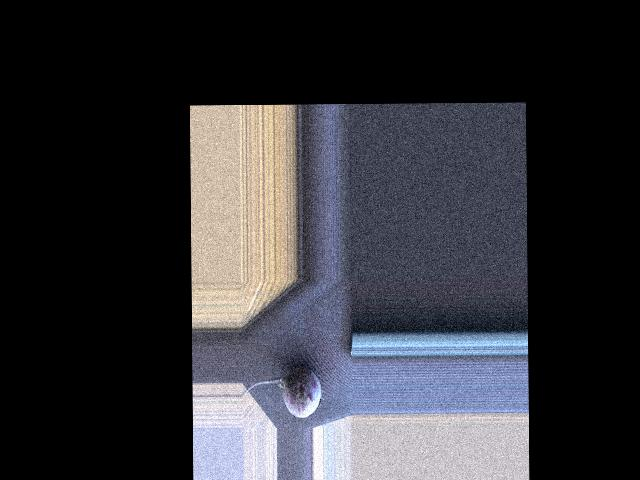beet: (242, 366, 321, 417)
